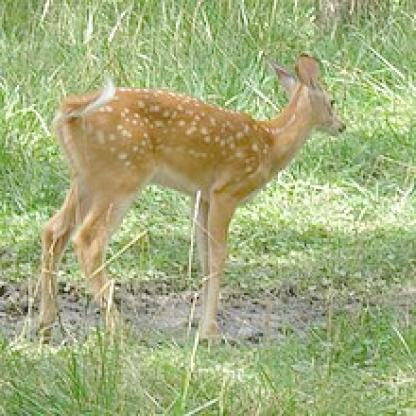Deer: (26, 48, 352, 349)
